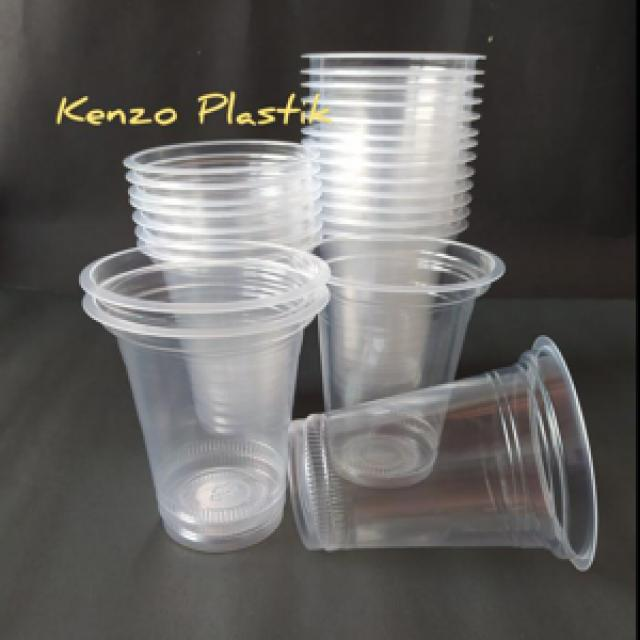plastic cup: (75, 239, 335, 557), (284, 330, 602, 586), (307, 226, 508, 495), (294, 39, 488, 262), (121, 136, 326, 269)
